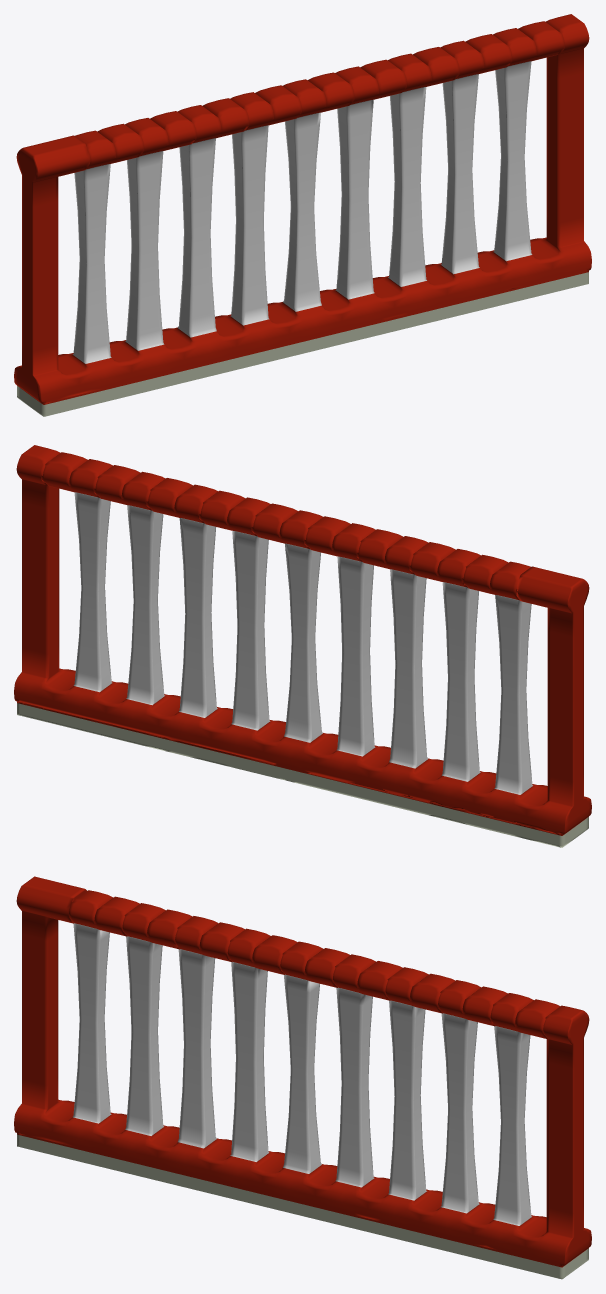
File: guardrail ###fret_!@00021.obj
3 renders of one model, top to bottom at view 1: azimuth 30°, elevation 25°; view 2: azimuth 150°, elevation 25°; view 3: azimuth 330°, elevation 25°, orthographic.
Visible parts, largest first — view 1: Cube; view 2: Cube; view 3: Cube.
Part boxes in pixels (x1,y1,x2,y2): Cube: (14,14,591,416); Cube: (14,445,591,847); Cube: (14,876,591,1279).
Size of what is drawn, in the model's own units: 2.74 by 1.21 by 0.2311.
